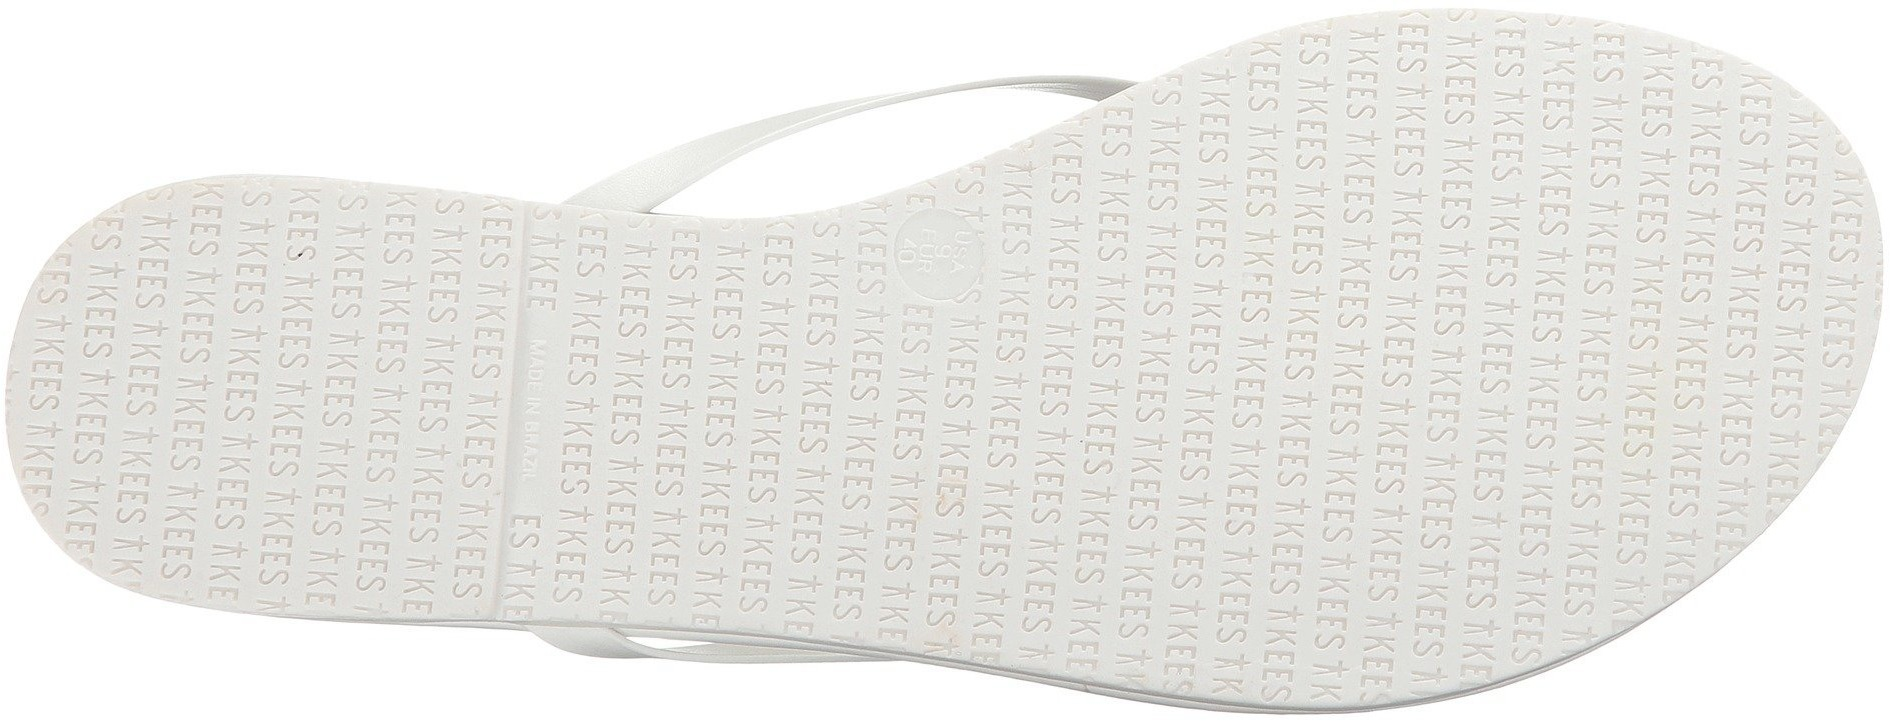text: (1011, 386, 1331, 661), (1528, 195, 1769, 442), (1019, 157, 1260, 379), (1270, 154, 1505, 370), (58, 262, 310, 449), (790, 244, 1004, 447), (559, 246, 774, 439), (317, 227, 513, 403), (1342, 461, 1539, 631), (560, 461, 774, 610), (790, 470, 981, 627), (328, 420, 491, 573), (1546, 453, 1706, 586), (1499, 49, 1690, 153), (172, 458, 307, 587)
